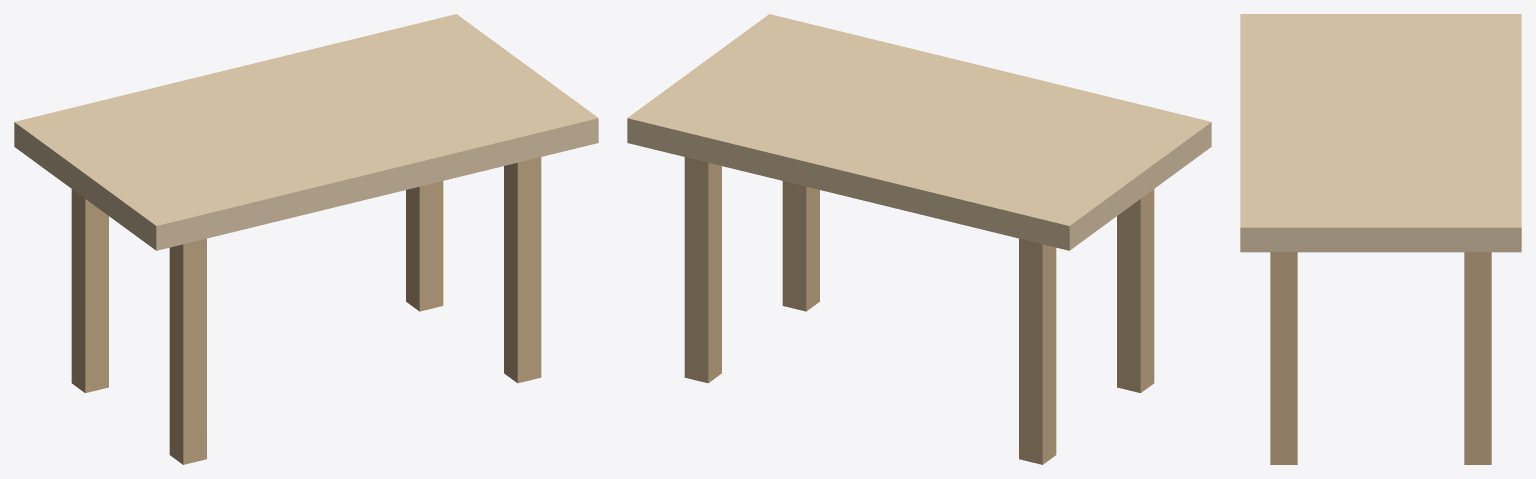
Rendered from dining_table.glb.
The picture shows the model from 3 angles, left to right: view 1: azimuth 30°, elevation 25°; view 2: azimuth 150°, elevation 25°; view 3: azimuth 270°, elevation 25°; orthographic projection.
Visible parts, largest first — view 1: dining_table_oak_light_0, dining_table_oak_4, dining_table_oak_2, dining_table_oak_1, dining_table_oak_3; view 2: dining_table_oak_light_0, dining_table_oak_3, dining_table_oak_1, dining_table_oak_2, dining_table_oak_4; view 3: dining_table_oak_light_0, dining_table_oak_3, dining_table_oak_4.
Boxes of the visible parts, box(x1,y1,x2,y2) form: dining_table_oak_light_0: box(14, 14, 598, 250); dining_table_oak_4: box(504, 157, 541, 383); dining_table_oak_2: box(169, 238, 206, 464); dining_table_oak_1: box(71, 189, 108, 393); dining_table_oak_3: box(406, 181, 443, 311); dining_table_oak_light_0: box(627, 14, 1211, 250); dining_table_oak_3: box(684, 157, 721, 383); dining_table_oak_1: box(1019, 238, 1056, 464); dining_table_oak_2: box(1117, 189, 1154, 393); dining_table_oak_4: box(782, 181, 819, 311); dining_table_oak_light_0: box(1240, 14, 1521, 252); dining_table_oak_3: box(1464, 252, 1491, 464); dining_table_oak_4: box(1270, 252, 1297, 464).
Bounding box in the file's own units: 1.4 × 0.7875 × 0.78.
